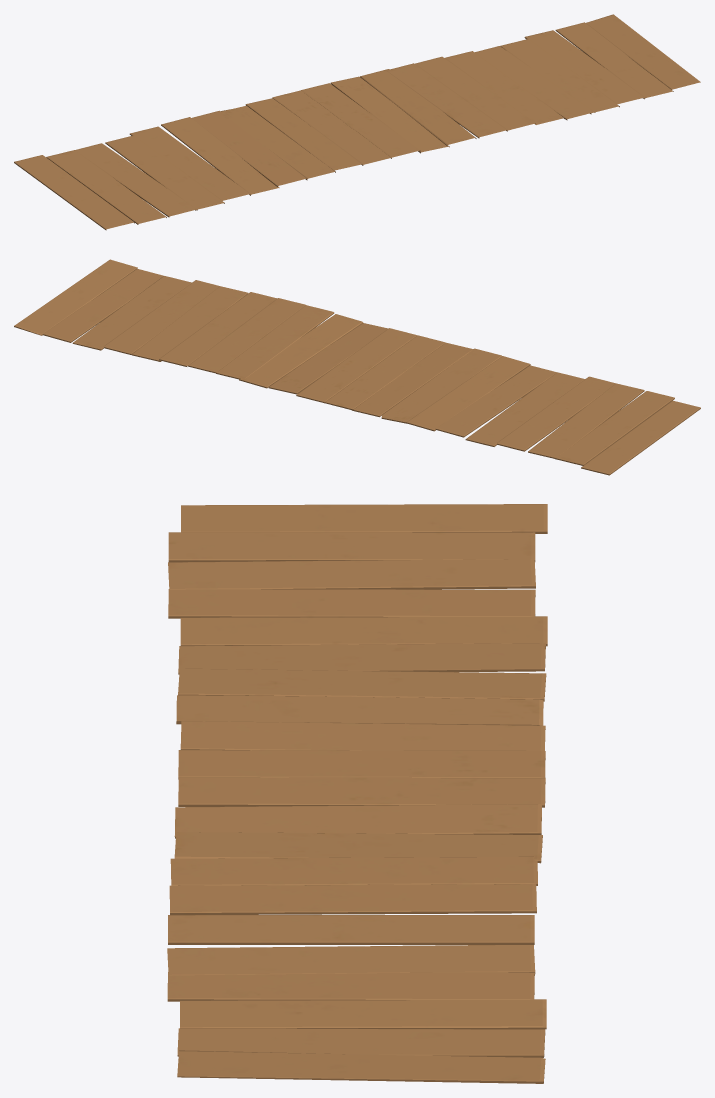
File: ExpLab_Floor00.fbx
3 renders of one model, top to bottom at view 1: azimuth 30°, elevation 25°; view 2: azimuth 150°, elevation 25°; view 3: azimuth 270°, elevation 25°, orthographic. The views are drawn at different scales.
Visible parts, largest first — view 1: ExpLab_Floor; view 2: ExpLab_Floor; view 3: ExpLab_Floor.
Boxes of the visible parts, x1,y1,x2,y2 form: ExpLab_Floor: [14, 14, 700, 230]; ExpLab_Floor: [14, 259, 700, 475]; ExpLab_Floor: [167, 504, 547, 1083].
Bounding box in the file's own units: 3605 × 31.62 × 996.
Materials: 1 (1 with a texture image).
